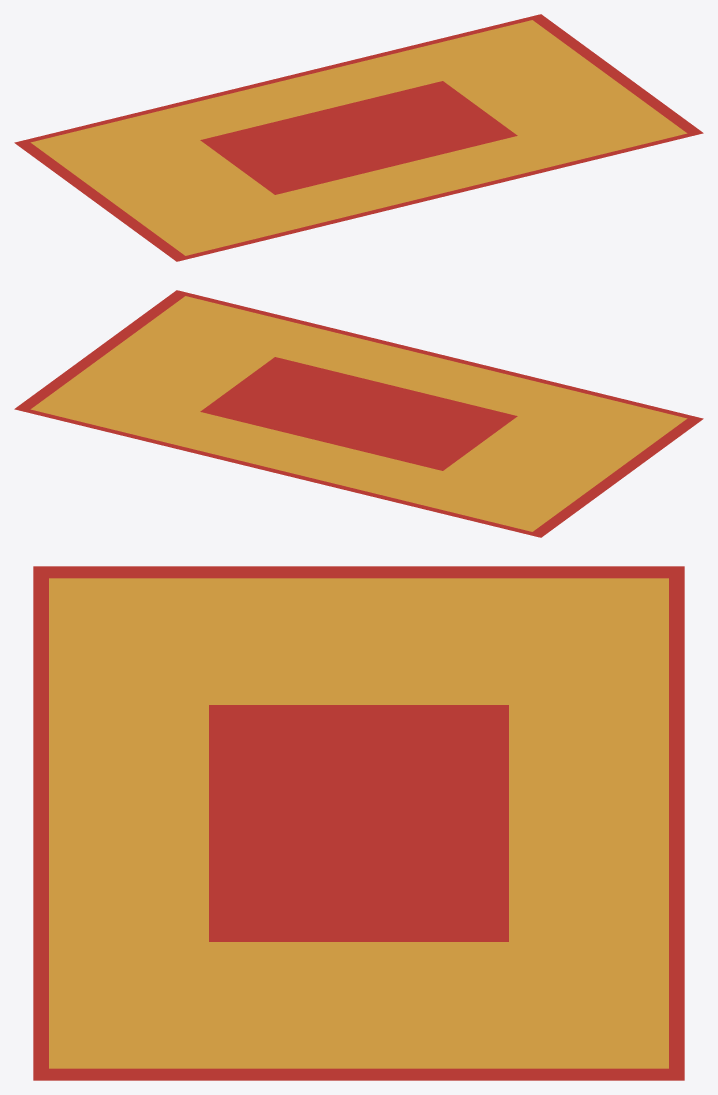
File: Carpet.fbx
The picture shows the model from 3 angles, top to bottom: view 1: azimuth 30°, elevation 25°; view 2: azimuth 150°, elevation 25°; view 3: azimuth 270°, elevation 25°; orthographic projection. The views are drawn at different scales.
Visible parts, largest first — view 1: tapis; view 2: tapis; view 3: tapis.
Part boxes in pixels (<box>): tapis: <box>14,14,703,261</box>; tapis: <box>14,290,703,537</box>; tapis: <box>33,566,684,1080</box>.
Size of the model in its own units: 374 by 3.26e-05 by 200.
